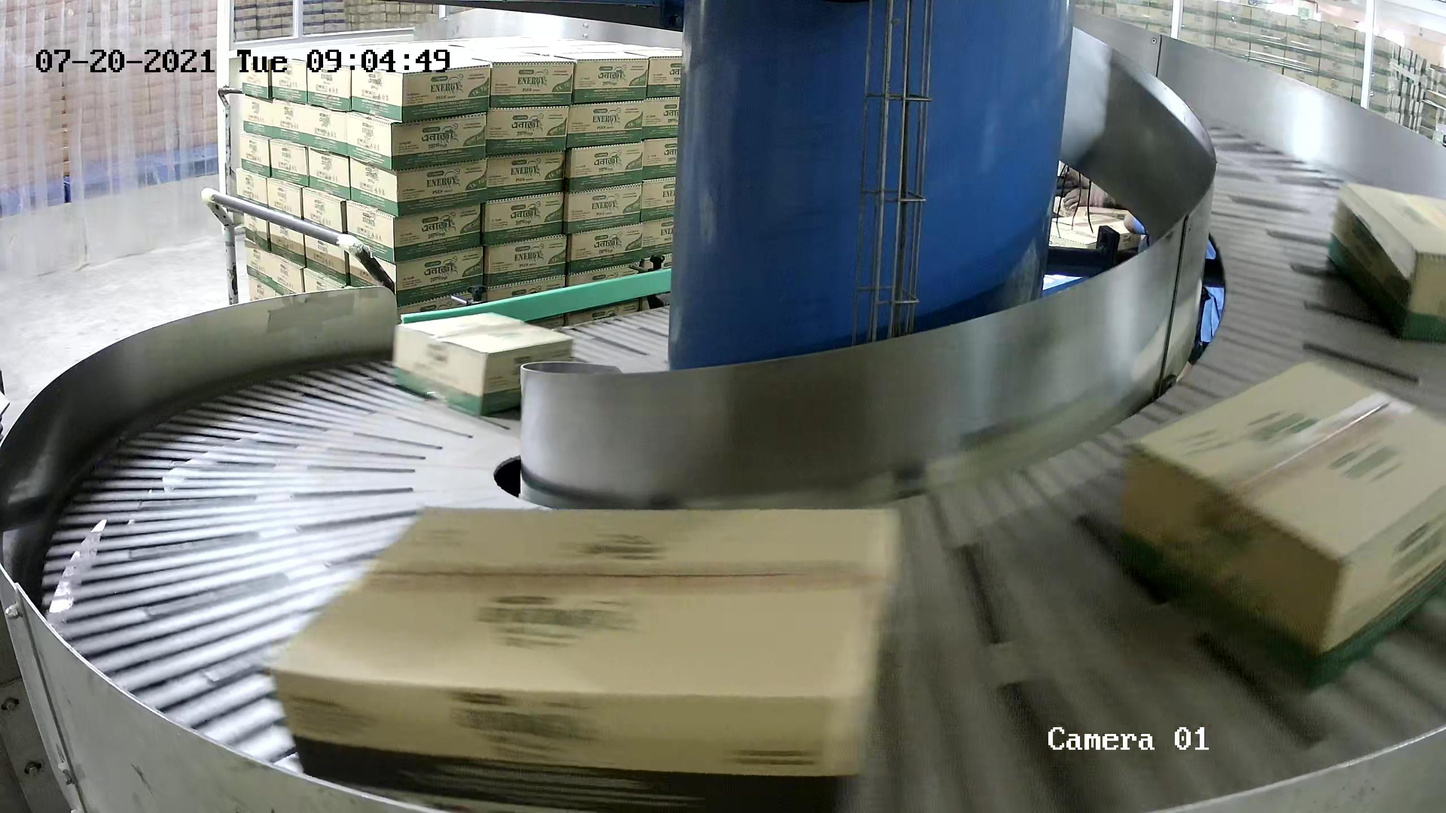Box: (267, 501, 920, 813), (1105, 351, 1446, 694), (1324, 177, 1446, 348), (392, 311, 574, 419)
